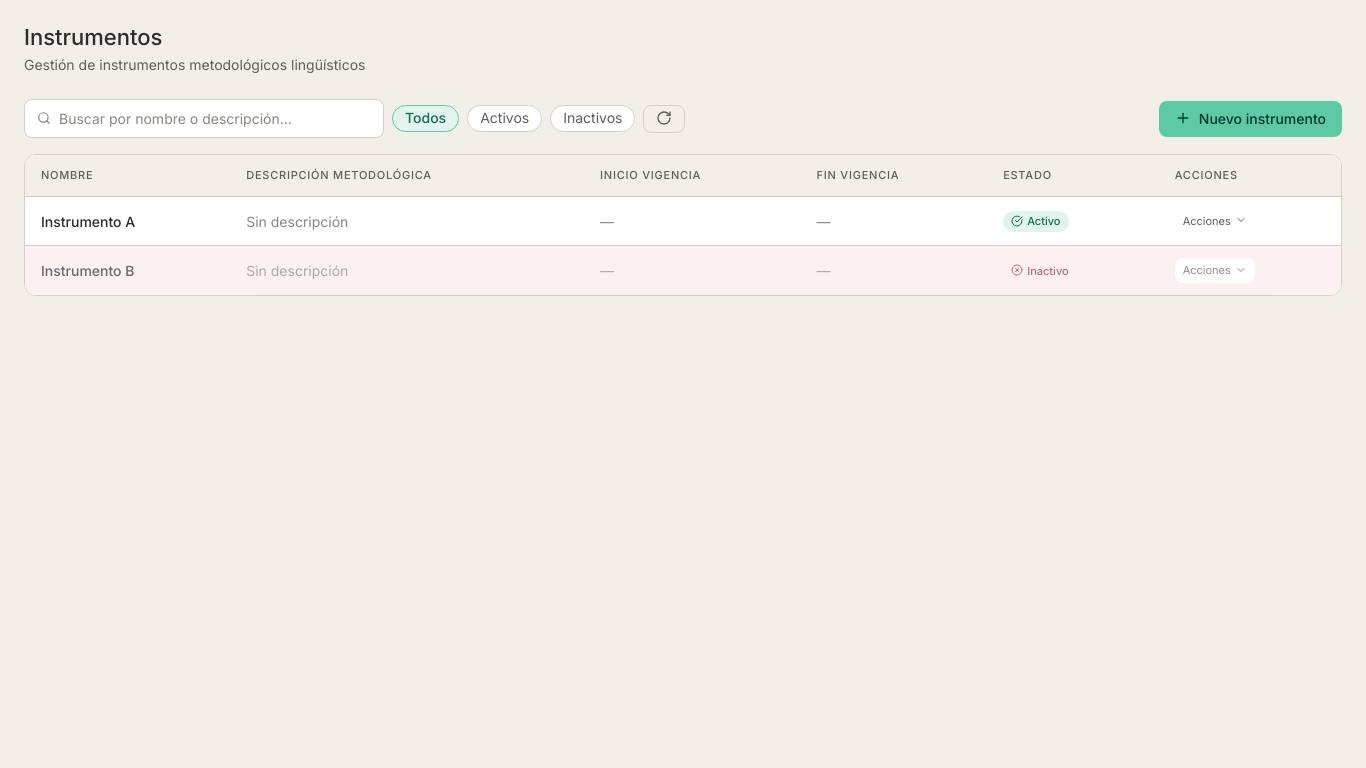
Test: GestionInstrumentos — validación start_date < end_date › permite avanzar al paso 2 cuando start_date < end_date
Click the button "Nuevo instrumento": (1250, 119) [1159, 101, 1342, 137]
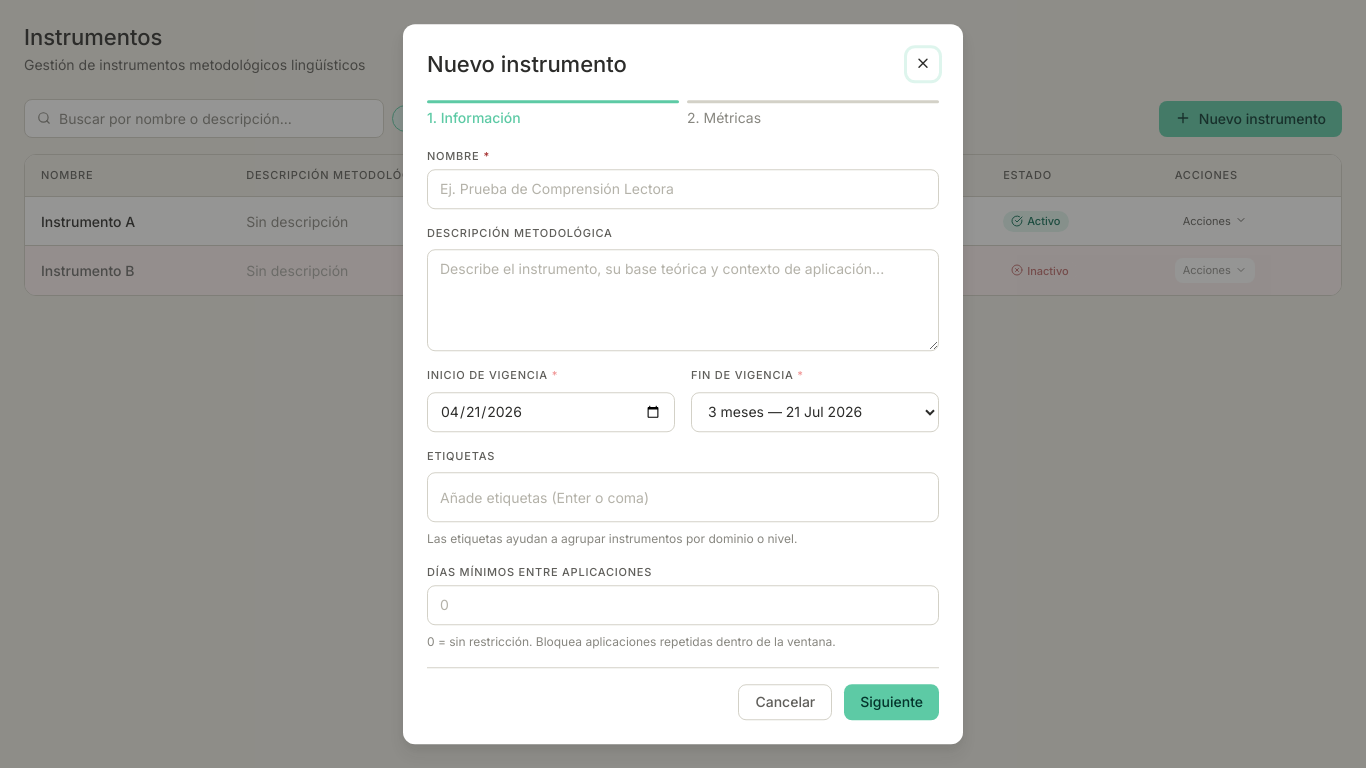
Result: the heading "Nuevo instrumento" is shown at [427, 51, 627, 77]
In the field labelled "Nombre*": (683, 189) [427, 169, 939, 209], type "Instrumento de prueba"
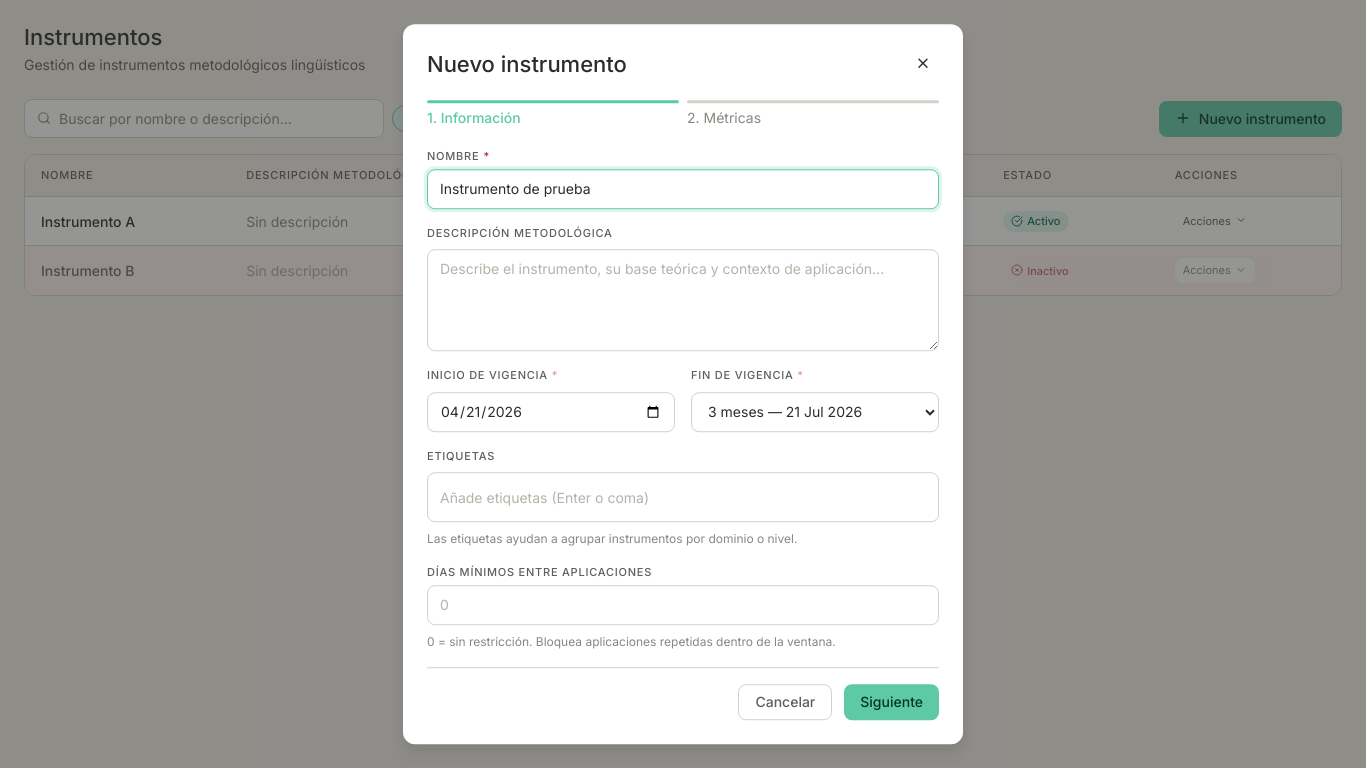
Select "Fecha personalizada" in the dropdown labelled "Fin de vigencia *": (815, 412) [691, 392, 939, 432]
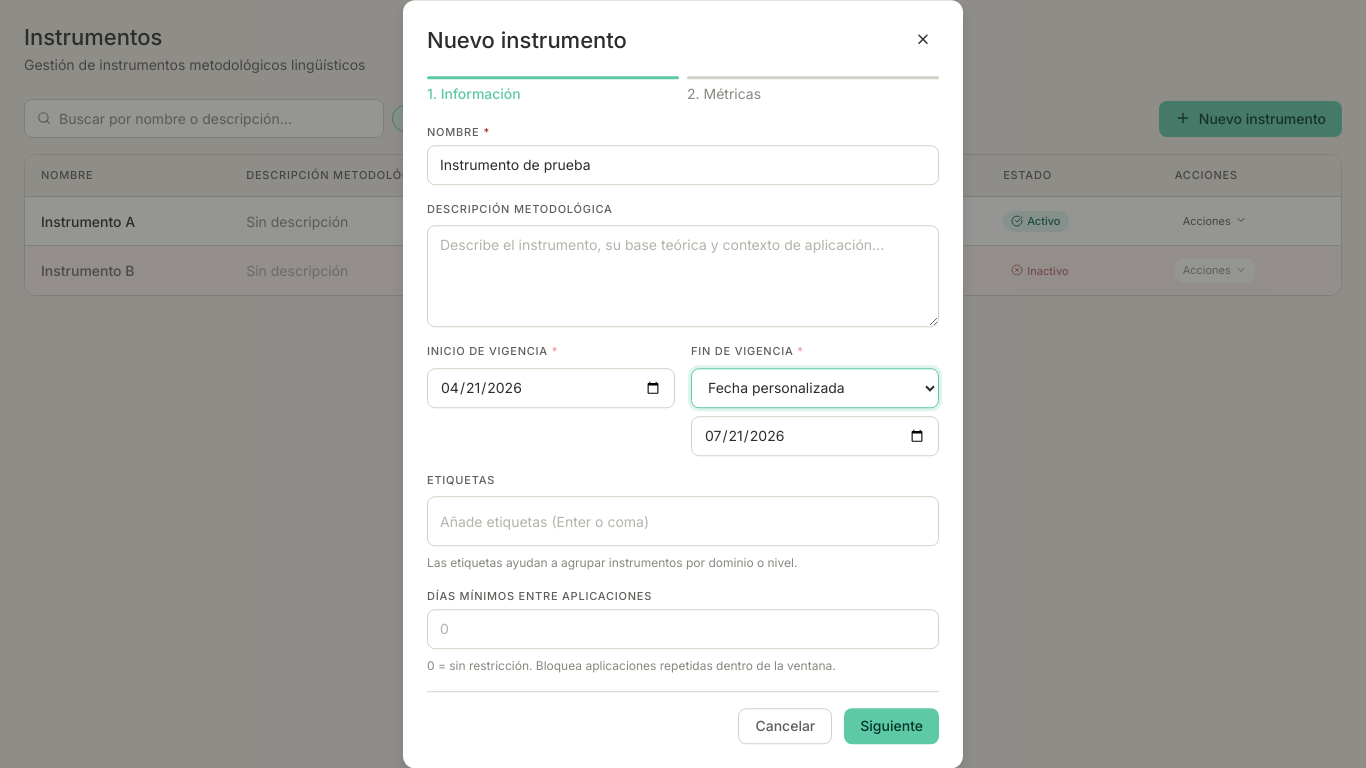
In the date field labelled "Inicio de vigencia *": (551, 388) [427, 368, 675, 408], type "2026-06-01"
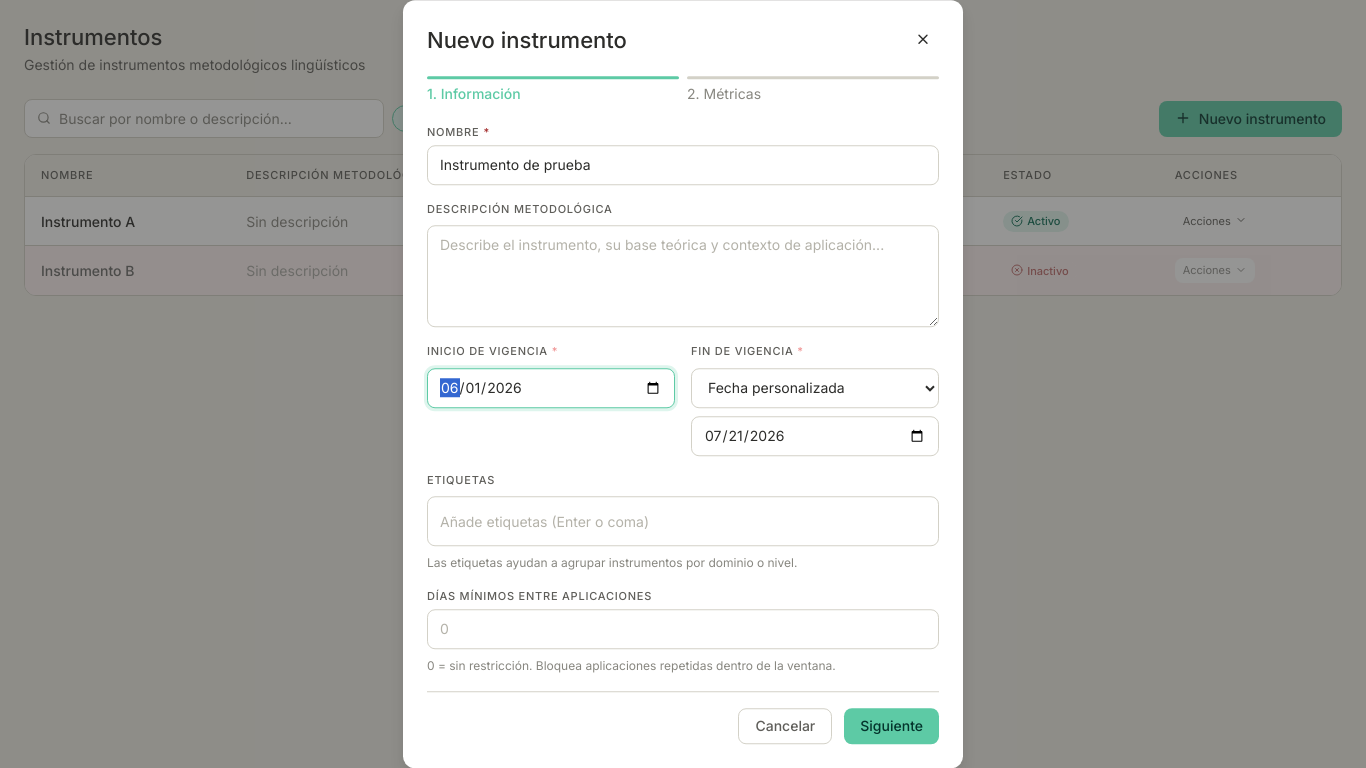
In the 2nd date field: (815, 436) [691, 416, 939, 456], type "2026-09-01"
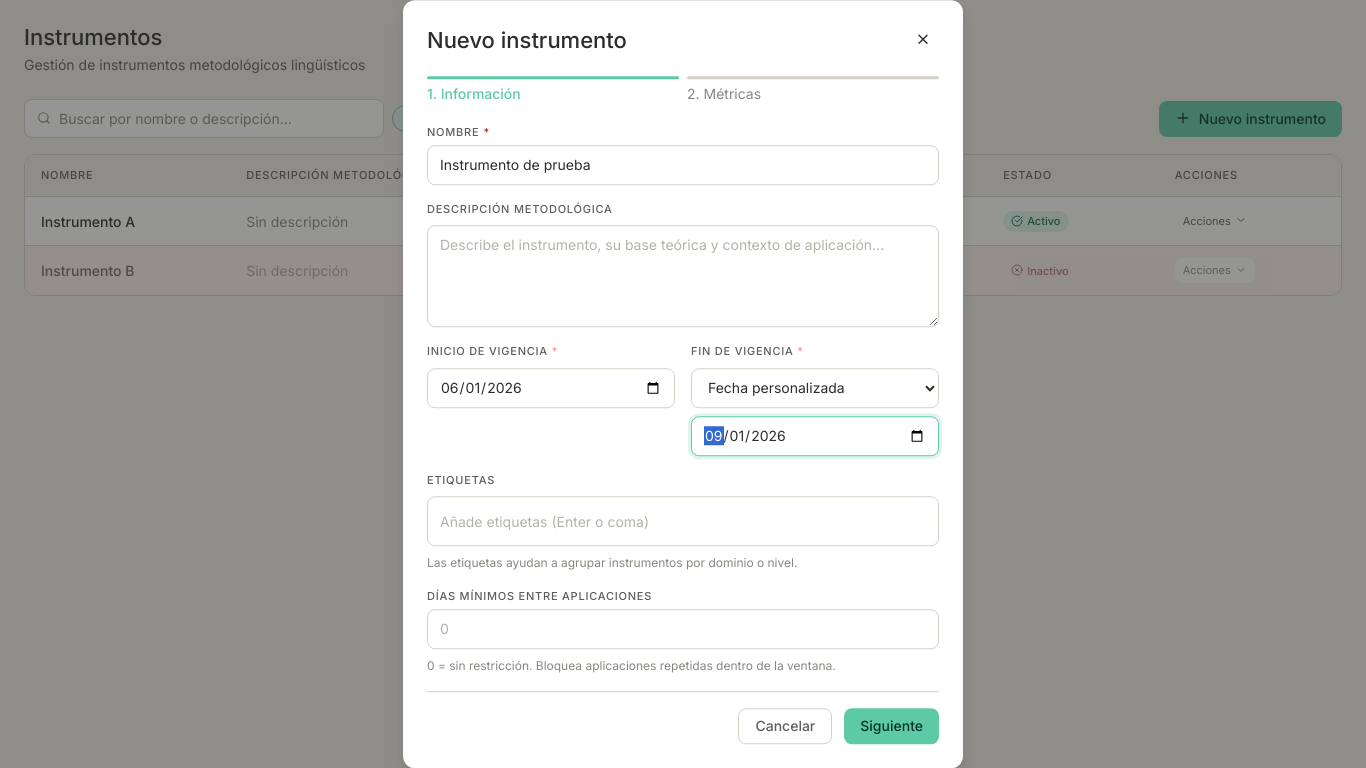
Click the button "Siguiente": (892, 726) [844, 708, 939, 744]
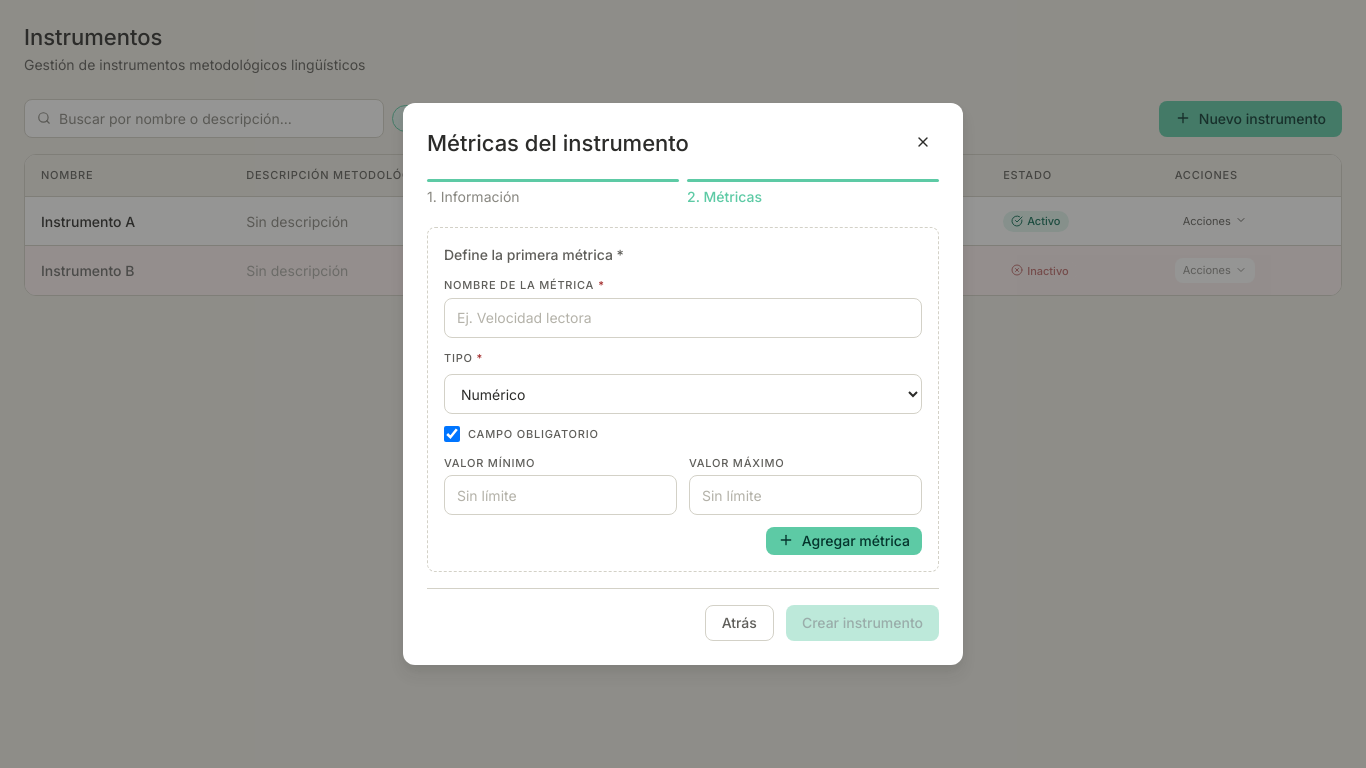
Result: the heading "Métricas del instrumento" is shown at [427, 130, 689, 156]
Result: the button "Crear instrumento" is shown at [786, 605, 939, 641]
